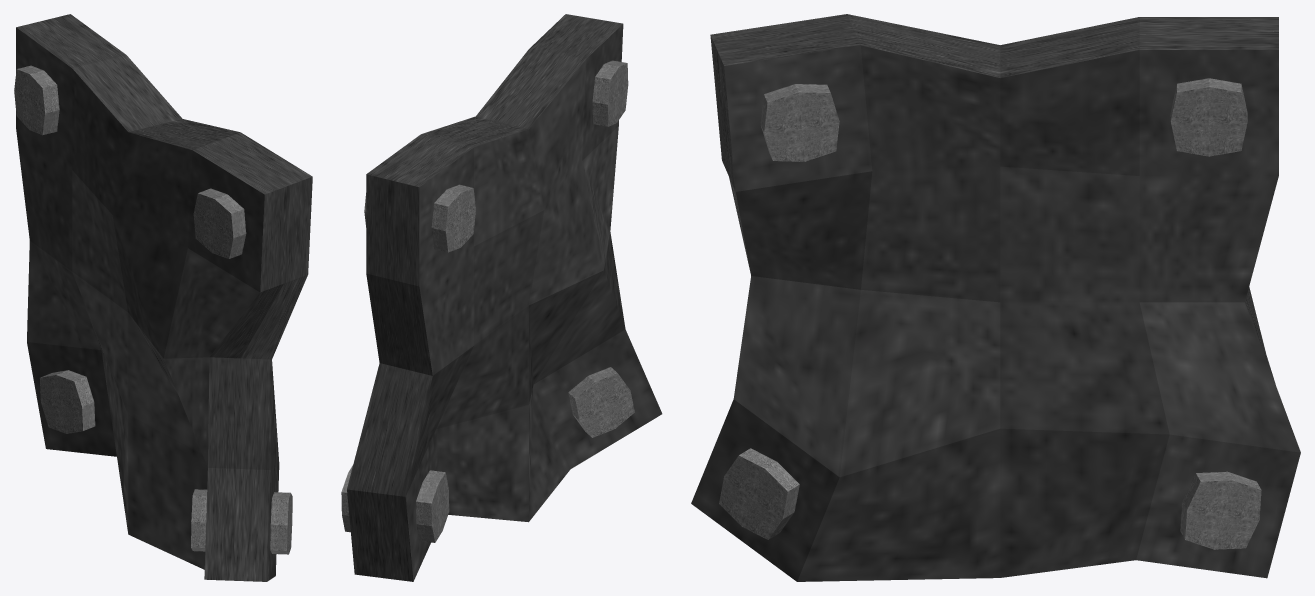
Rendered from Scrap1.fbx.
The picture shows the model from 3 angles, left to right: view 1: azimuth 30°, elevation 25°; view 2: azimuth 150°, elevation 25°; view 3: azimuth 270°, elevation 25°; orthographic projection. The views are drawn at different scales.
Visible parts, largest first — view 1: Scrap1; view 2: Scrap1; view 3: Scrap1.
Boxes of the visible parts, x1,y1,x2,y2 form: Scrap1: (14,14,312,581); Scrap1: (341,14,662,581); Scrap1: (691,14,1300,581).
Bounding box in the file's own units: 66.87 × 211 × 219.
